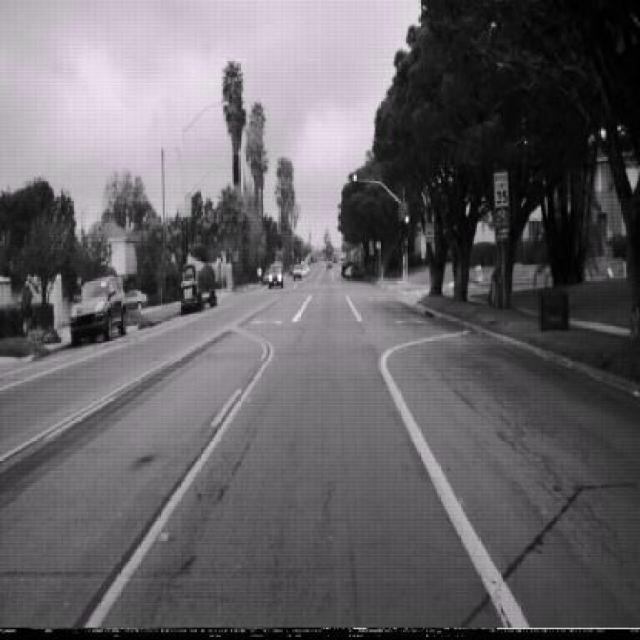speedLimit35: (494, 169, 510, 210)
